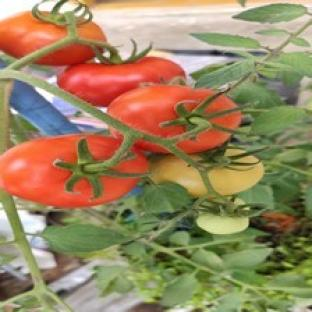Tomato: (0, 134, 139, 207), (58, 56, 185, 105), (108, 85, 214, 137), (0, 12, 68, 58), (207, 155, 264, 194), (197, 212, 249, 233)
